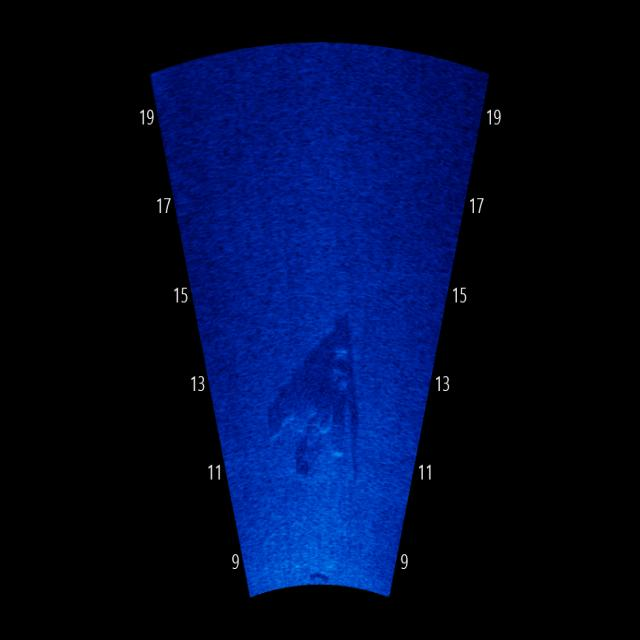triangle: (258, 316, 384, 492)
